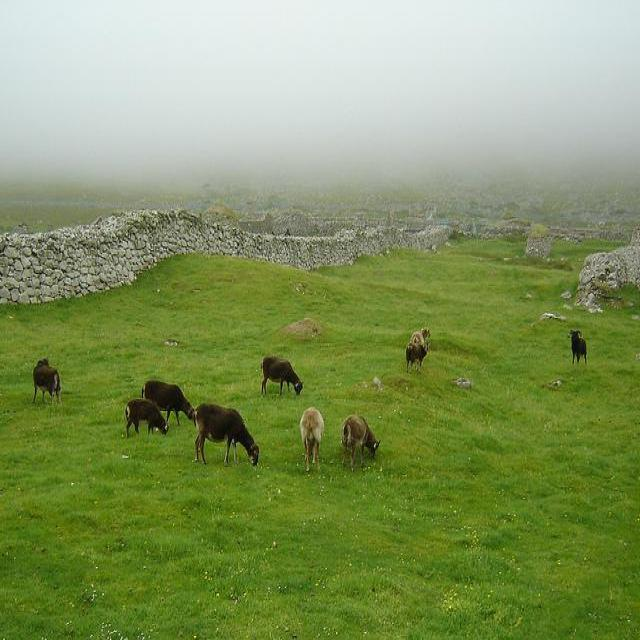Sheep: (342, 417, 380, 472)
